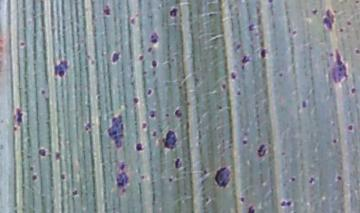tarspot: (327, 48, 349, 87), (107, 113, 127, 151), (114, 162, 131, 194), (214, 165, 232, 189), (320, 8, 337, 32), (53, 58, 69, 80), (161, 130, 178, 150), (13, 107, 25, 124), (255, 142, 267, 158), (110, 49, 121, 65), (148, 30, 160, 44), (277, 198, 293, 208), (129, 12, 140, 26), (168, 6, 179, 19), (101, 4, 112, 17), (82, 120, 93, 132), (37, 146, 47, 158), (173, 157, 183, 169), (135, 142, 145, 153), (247, 22, 257, 33), (240, 54, 250, 65), (258, 47, 267, 59), (53, 150, 62, 162), (147, 109, 157, 119), (173, 107, 182, 118), (229, 71, 237, 83), (193, 75, 200, 88), (131, 96, 141, 105), (246, 203, 255, 213), (234, 42, 243, 52), (307, 175, 315, 186), (146, 87, 154, 97), (233, 88, 241, 98), (18, 40, 26, 49), (310, 6, 318, 15), (349, 86, 357, 95), (346, 124, 354, 133), (150, 58, 157, 68), (329, 119, 336, 129), (301, 99, 307, 110), (207, 11, 218, 17), (30, 173, 38, 181), (290, 28, 298, 36), (136, 53, 144, 61), (59, 173, 66, 182), (353, 47, 360, 56), (201, 167, 208, 176), (150, 69, 157, 78), (140, 122, 147, 130), (150, 130, 157, 138), (330, 137, 337, 145), (239, 195, 246, 203), (241, 138, 248, 146), (146, 46, 153, 54), (279, 149, 287, 156), (163, 111, 170, 119), (220, 81, 226, 90), (204, 195, 210, 204), (39, 88, 46, 95), (71, 189, 78, 196), (345, 20, 352, 27), (277, 71, 284, 78), (28, 165, 35, 172), (139, 174, 146, 181), (140, 69, 147, 76), (337, 27, 344, 33), (289, 176, 296, 182), (239, 65, 246, 71), (217, 104, 223, 111), (167, 176, 173, 183), (12, 125, 18, 132), (182, 190, 188, 197), (336, 174, 341, 181), (177, 85, 182, 91), (266, 1, 274, 4), (354, 1, 360, 4)
